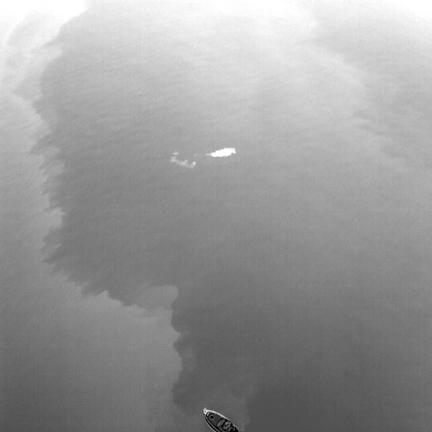flukeprints: (207, 148, 235, 157)
